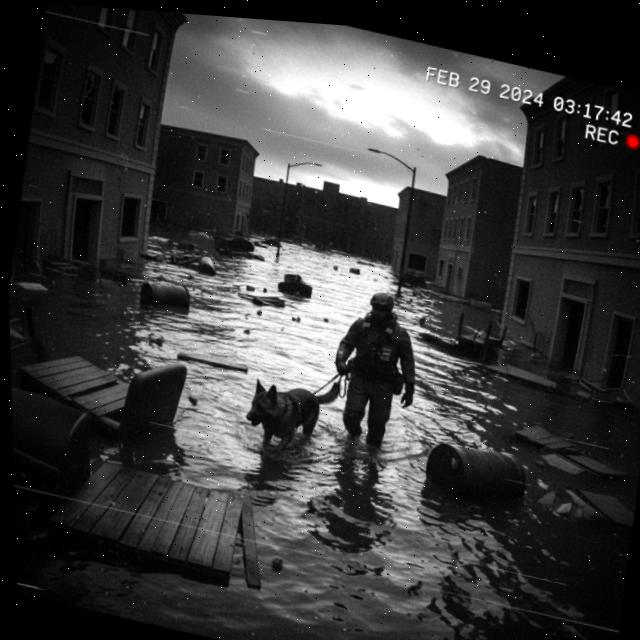dog: (236, 360, 352, 464)
rescuer: (307, 268, 444, 470)
